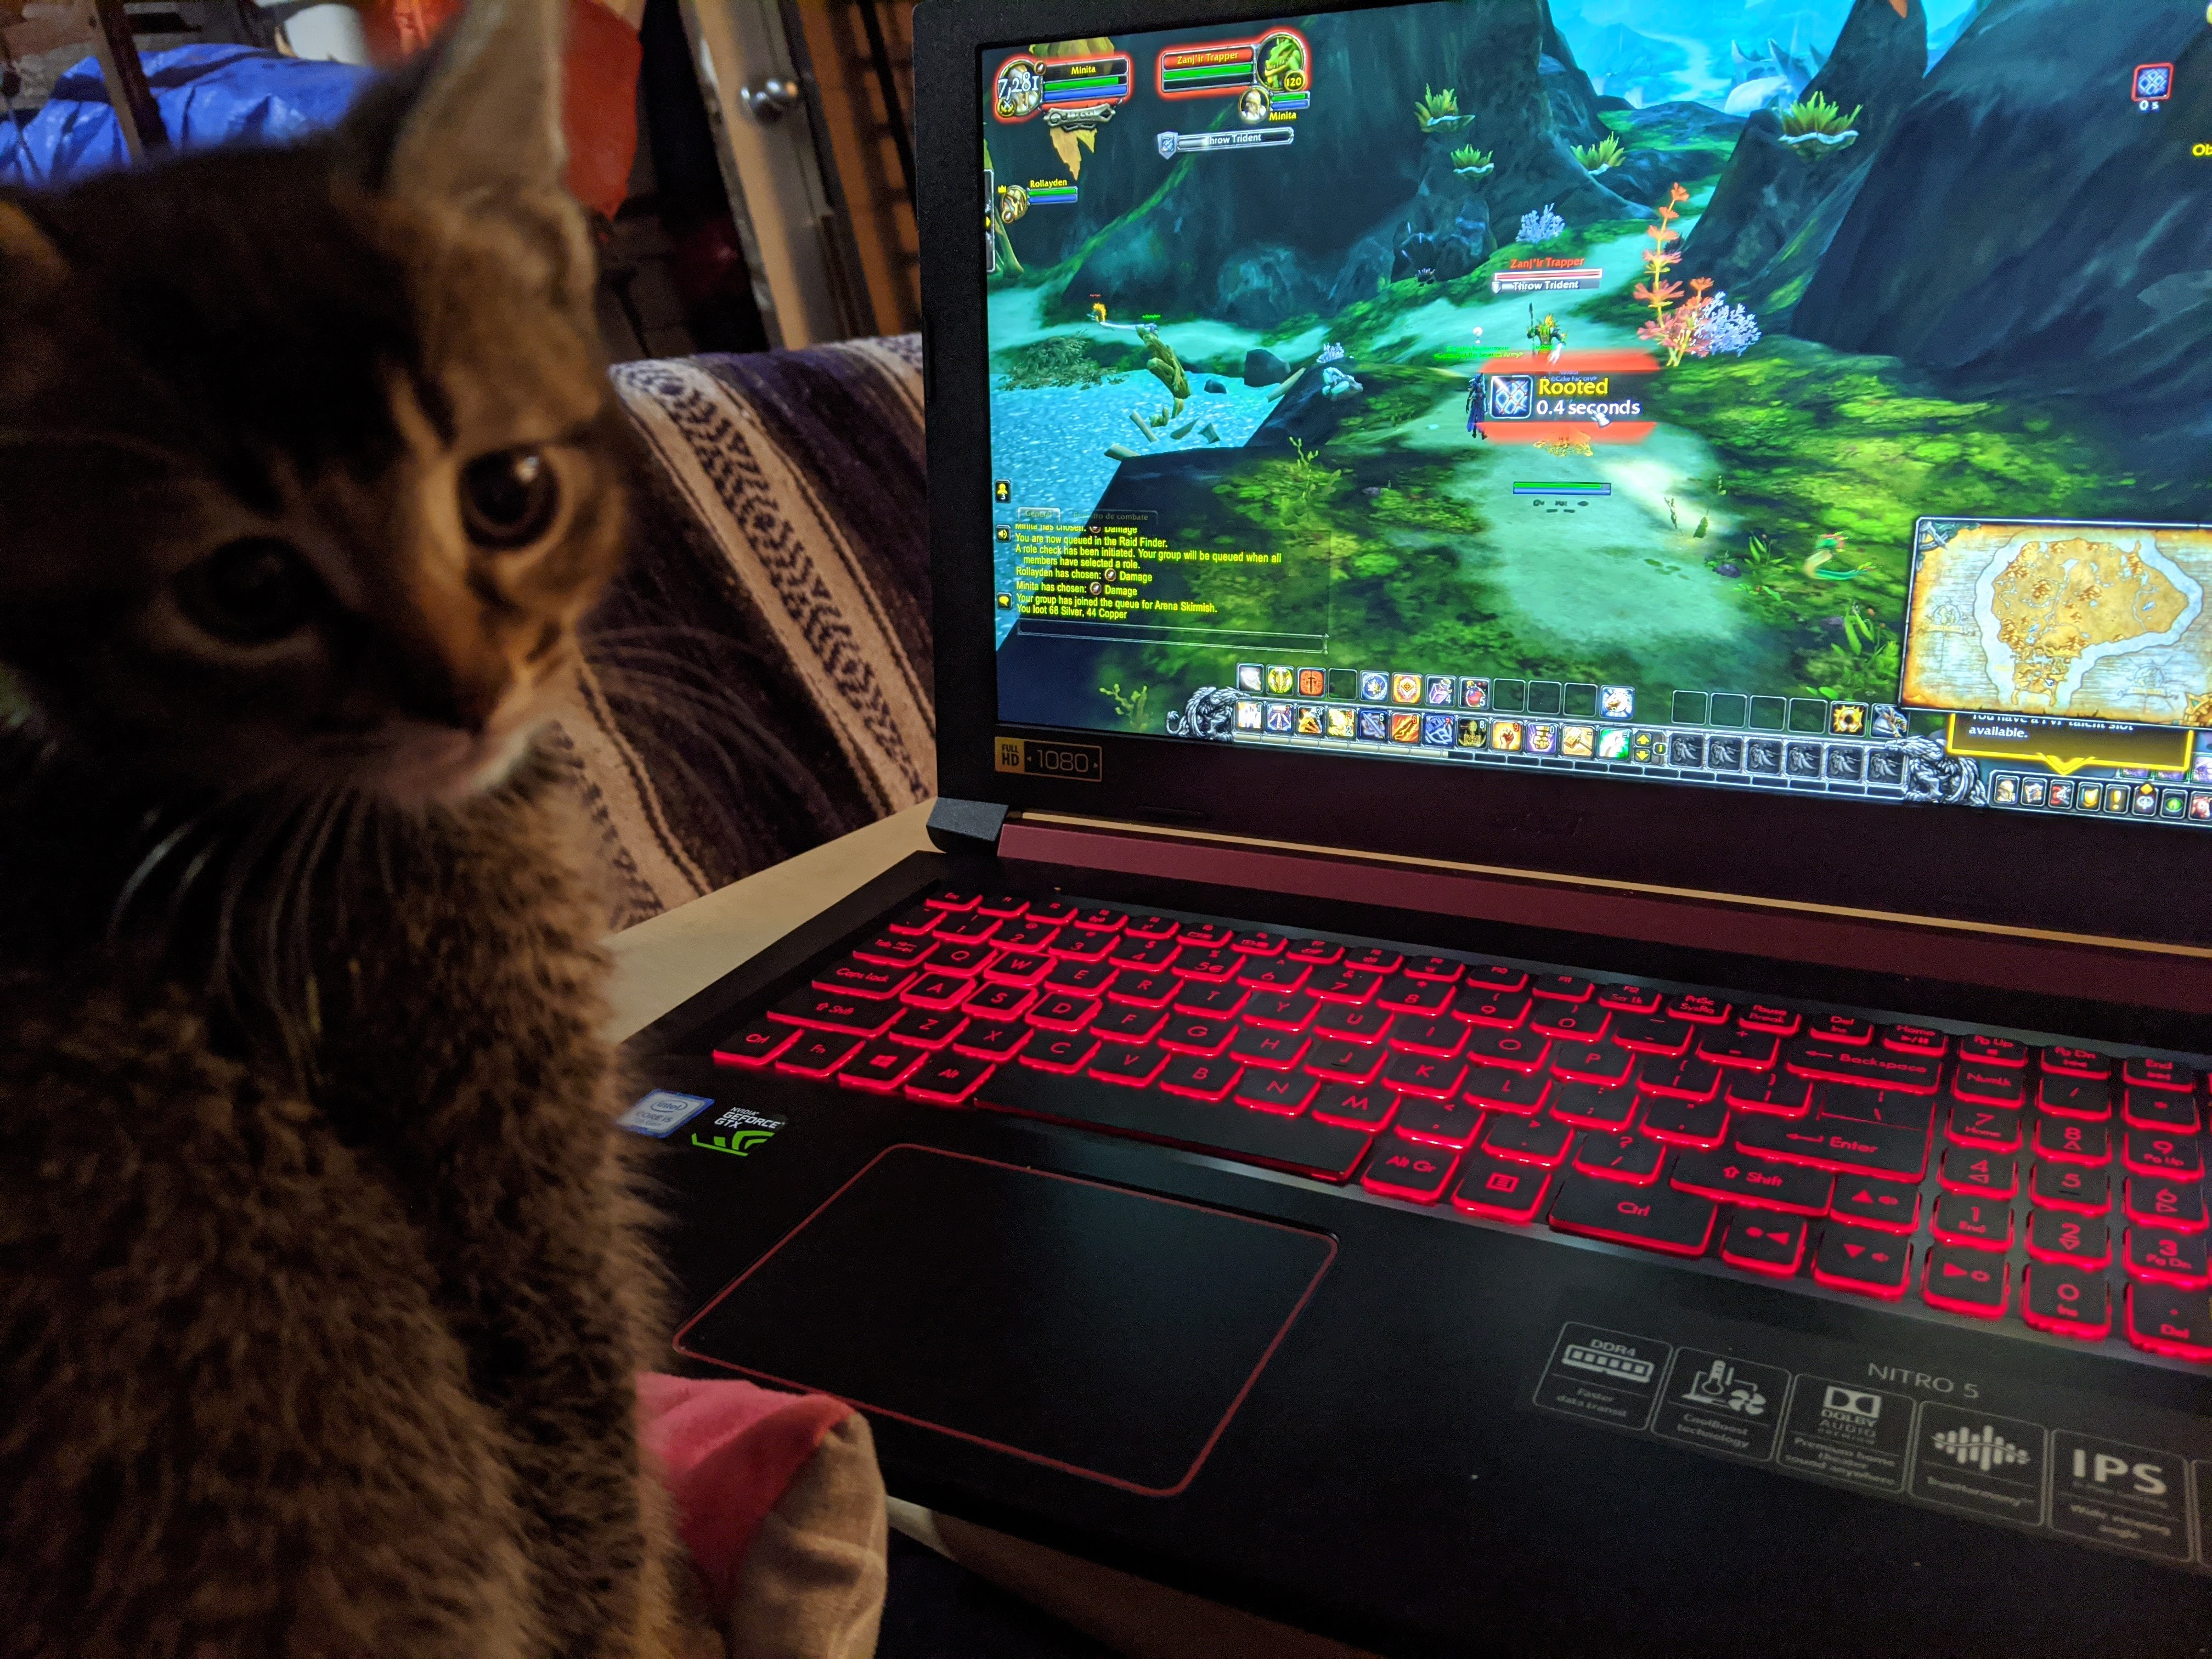luna: (0, 0, 676, 1659)
